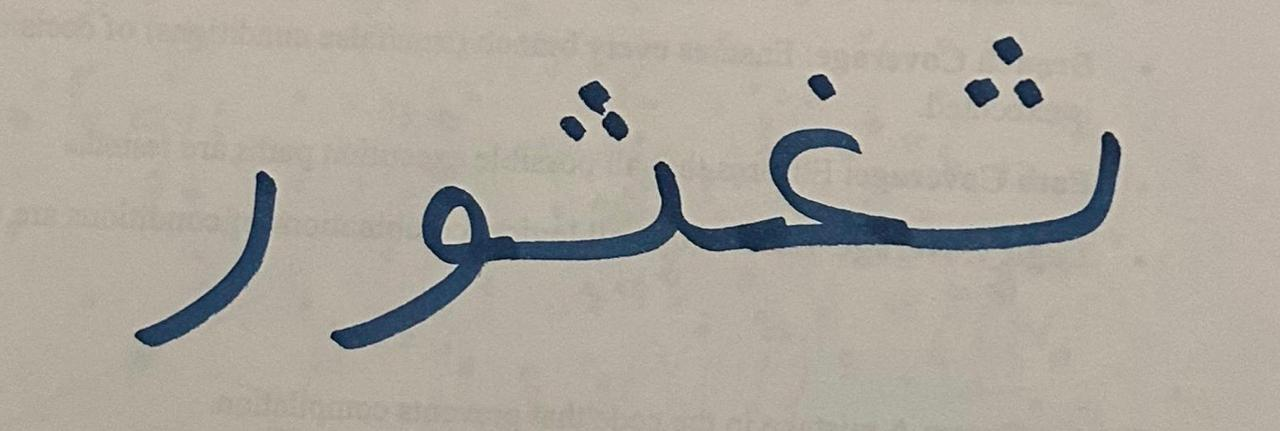ghain: (698, 30, 918, 287)
sad: (100, 126, 302, 382)
waw: (922, 19, 1169, 312), (524, 20, 694, 319)
yeh: (306, 139, 521, 359)
